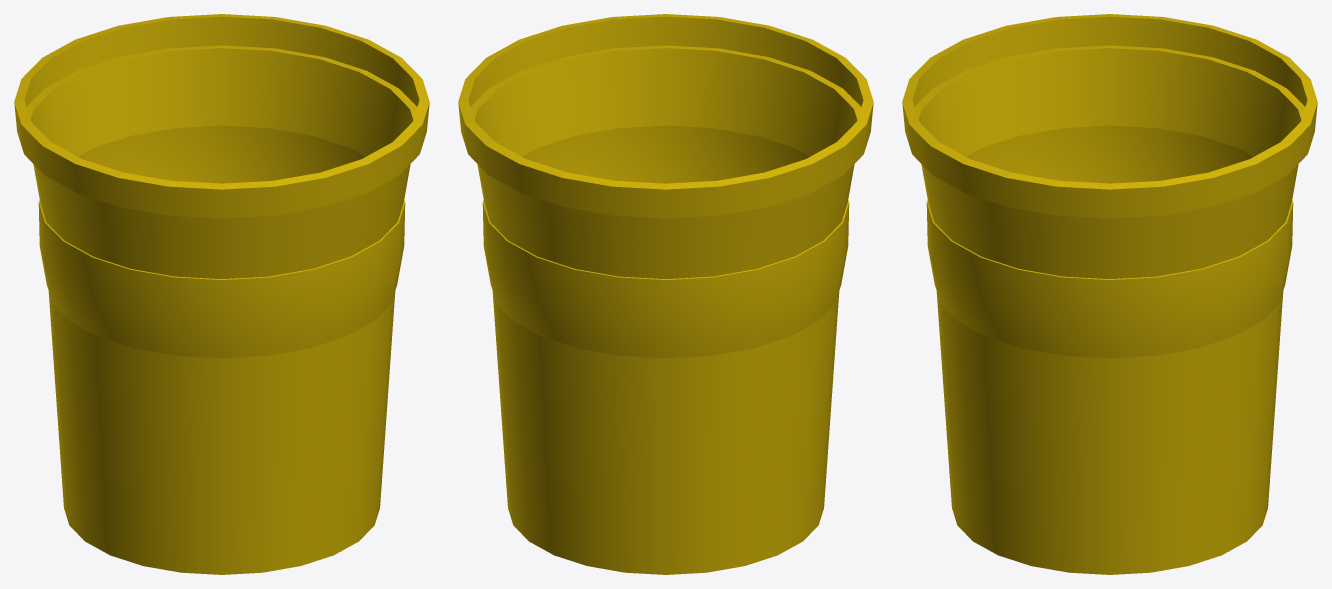
The model's file is bucket_B.FBX.
3 views of the same model, side by side, from view 1: azimuth 30°, elevation 25°; view 2: azimuth 150°, elevation 25°; view 3: azimuth 270°, elevation 25° (orthographic).
Visible parts, largest first — view 1: bucket_B; view 2: bucket_B; view 3: bucket_B.
Boxes of the visible parts, bbox=[...] form: bucket_B: bbox=[14, 14, 429, 574]; bucket_B: bbox=[458, 14, 873, 574]; bucket_B: bbox=[902, 14, 1317, 574].
Size of the model in its own units: 68.56 by 74.29 by 68.56.
